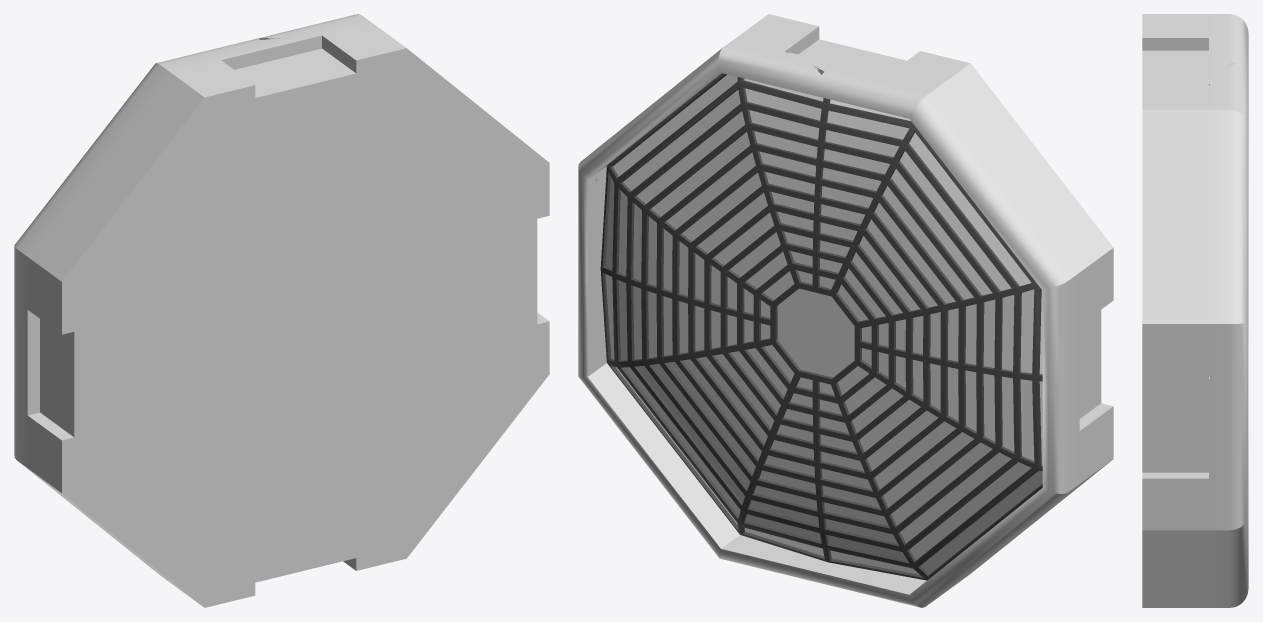
Rendered from Node_Branch.fbx.
3 renders of one model, left to right at view 1: azimuth 30°, elevation 25°; view 2: azimuth 150°, elevation 25°; view 3: azimuth 270°, elevation 25°, orthographic. The views are drawn at different scales.
Visible parts, largest first — view 1: Node_branch; view 2: Node_branch; view 3: Node_branch.
Part boxes in pixels (<box>): Node_branch: <box>14,14,549,607</box>; Node_branch: <box>578,14,1113,607</box>; Node_branch: <box>1142,14,1248,607</box>.
Size of the model in its own units: 0.4991 by 0.4991 by 0.0967.
